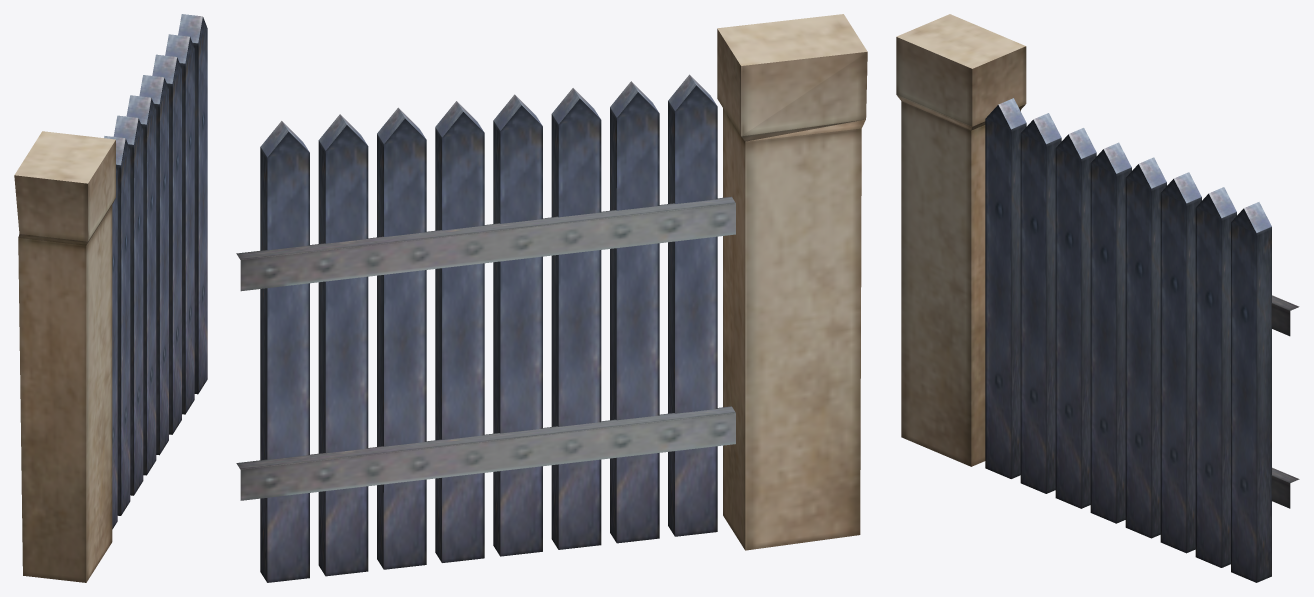
The model's file is a_SEcfence04.glb.
3 views of the same model, side by side, from view 1: azimuth 30°, elevation 25°; view 2: azimuth 150°, elevation 25°; view 3: azimuth 270°, elevation 25° (orthographic). The views are drawn at different scales.
Parts seen in each view (by area): view 1: a_SEcfence04; view 2: a_SEcfence04; view 3: a_SEcfence04.
Part boxes in pixels (x1,y1,x2,y2): a_SEcfence04: (14, 14, 207, 582); a_SEcfence04: (236, 14, 867, 582); a_SEcfence04: (896, 14, 1299, 582).
Size of the model in its own units: 1.22 by 1.34 by 1.22.
1 material, 1 textured.
